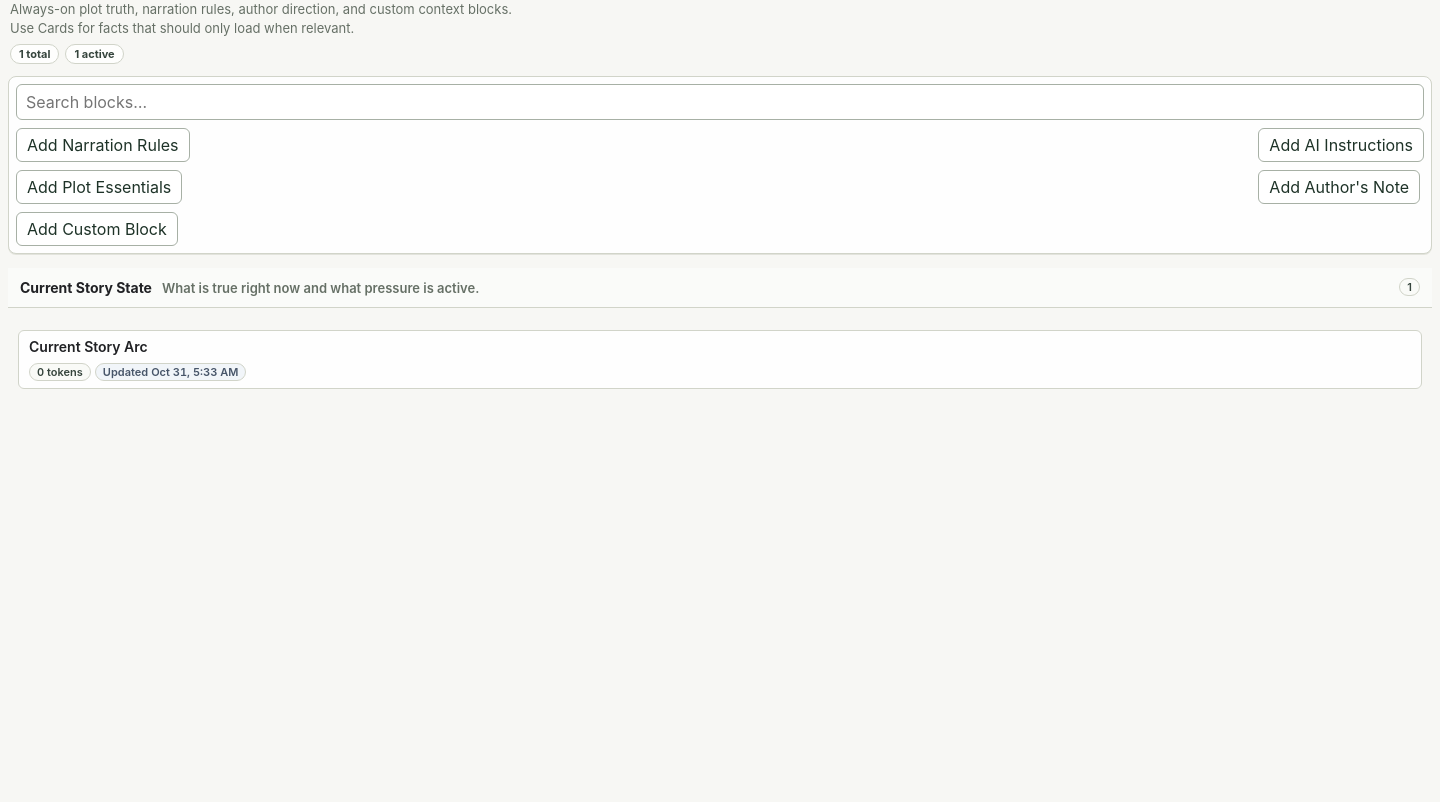
Scenario: side menu page smoke coverage › keeps Arc Director controls visible in the Play sidebar for an empty aftermath arc
Click the heading "Current Story Arc": (88, 346) top-left (29, 338), bottom-right (246, 381)
(page scrolled)
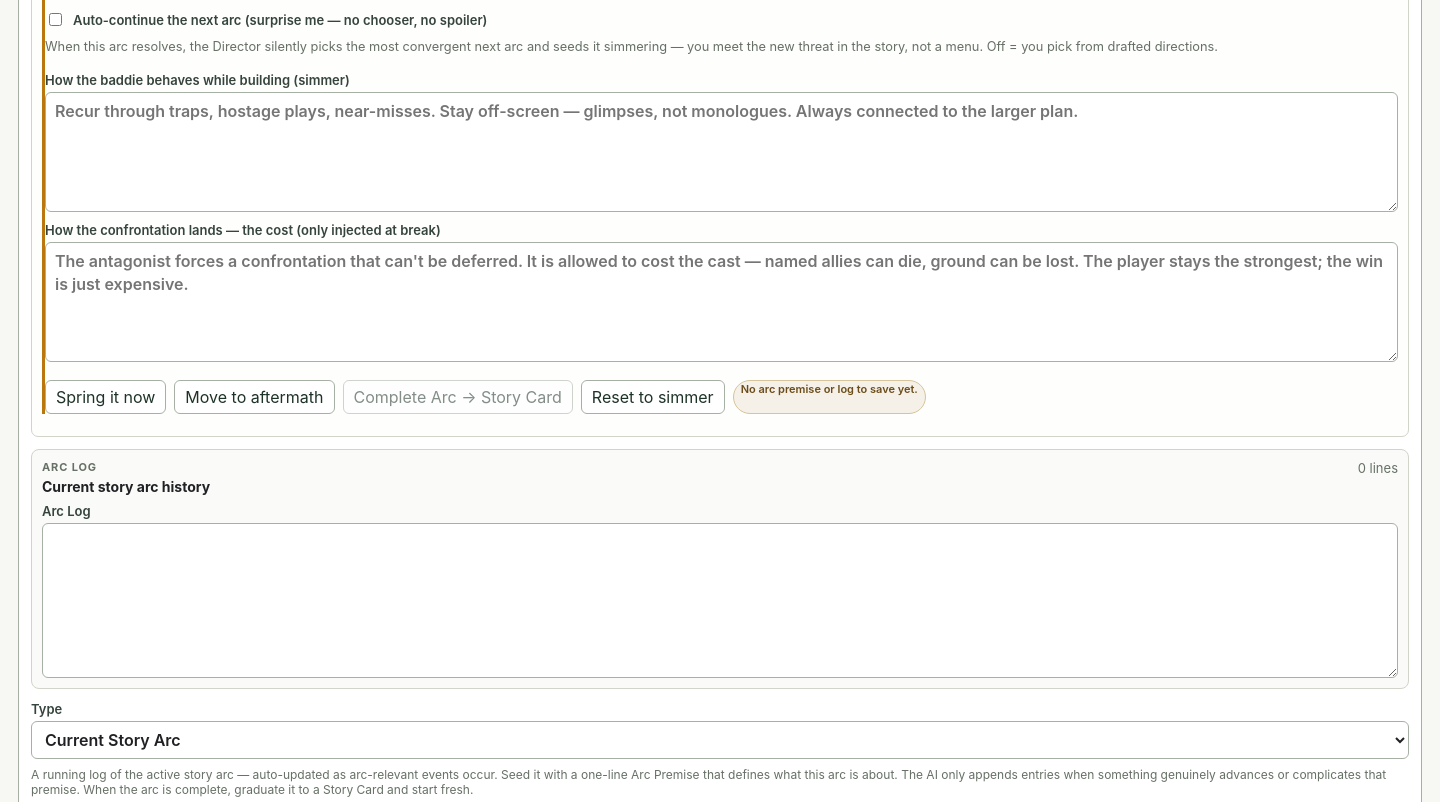
Expected: the message reads "No arc premise or log to save yet.", top-left (741, 382), bottom-right (918, 396)
Expected: the button "Complete Arc -> Story Card" is disabled, top-left (342, 380), bottom-right (573, 414)
